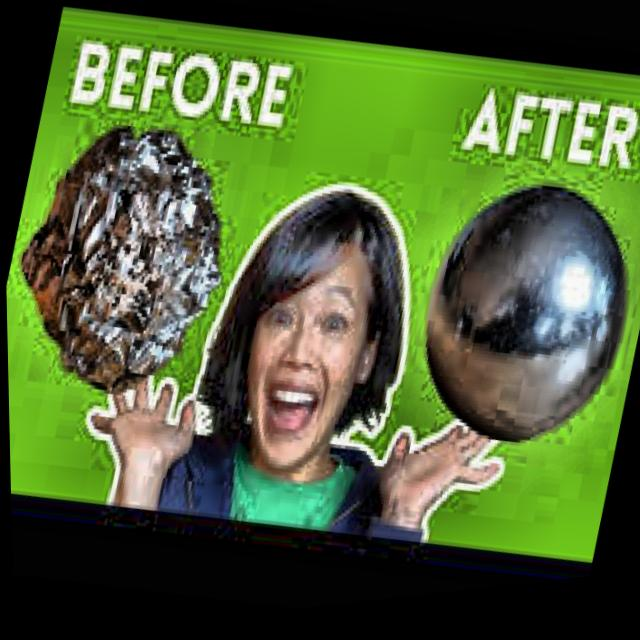Foil: (2, 74, 258, 436)
